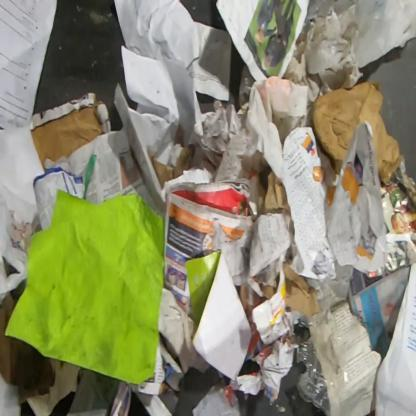cardboard: (310, 78, 406, 186), (28, 92, 131, 179), (0, 278, 56, 407), (283, 260, 318, 316), (254, 170, 291, 218)
rigid_plastic: (294, 260, 364, 415)
soft_plastic: (302, 0, 415, 69), (244, 75, 310, 185), (305, 5, 364, 92), (192, 375, 241, 416), (238, 62, 254, 111)
